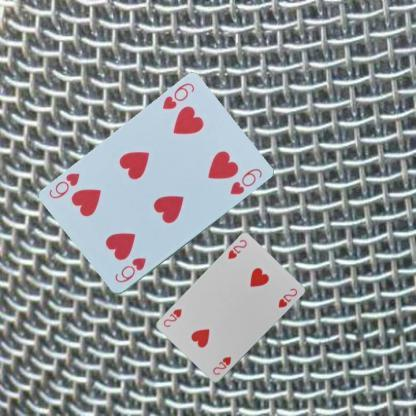2h: (210, 354, 233, 377), (226, 237, 248, 260)
6h: (159, 80, 196, 112), (112, 254, 147, 285)
